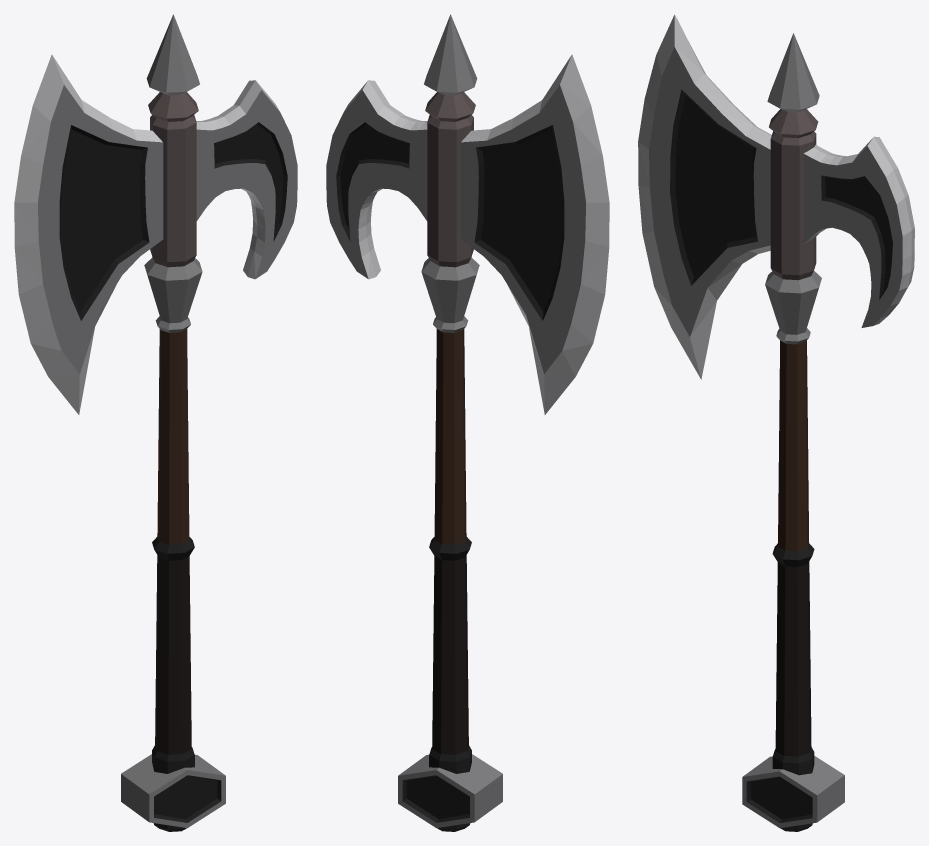
File: Axe 01.fbx
3 renders of one model, left to right at view 1: azimuth 30°, elevation 25°; view 2: azimuth 150°, elevation 25°; view 3: azimuth 330°, elevation 25°, orthographic. The views are drawn at different scales.
Parts seen in each view (by area): view 1: Axe 01; view 2: Axe 01; view 3: Axe 01.
Part boxes in pixels (left/top/right/bottom): Axe 01: left=14, top=14, right=297, bottom=831; Axe 01: left=326, top=14, right=609, bottom=831; Axe 01: left=638, top=14, right=914, bottom=831.
Bounding box in the file's own units: 17.99 × 49.78 × 3.36.
